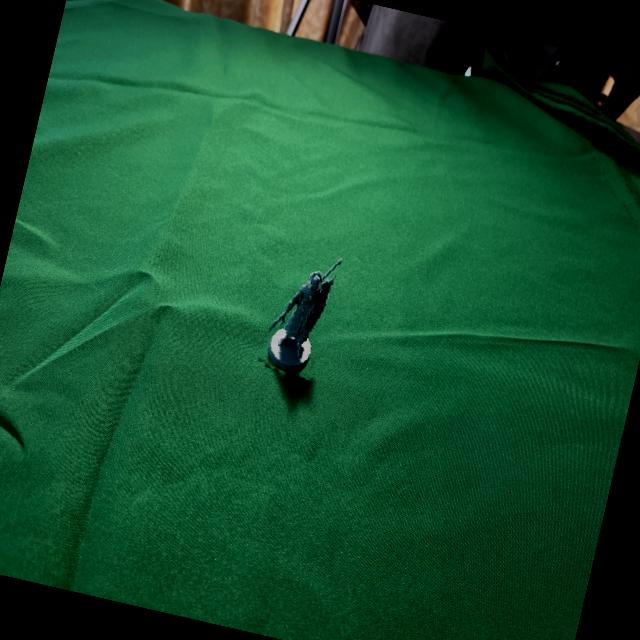isis_follower: (260, 240, 352, 382)
